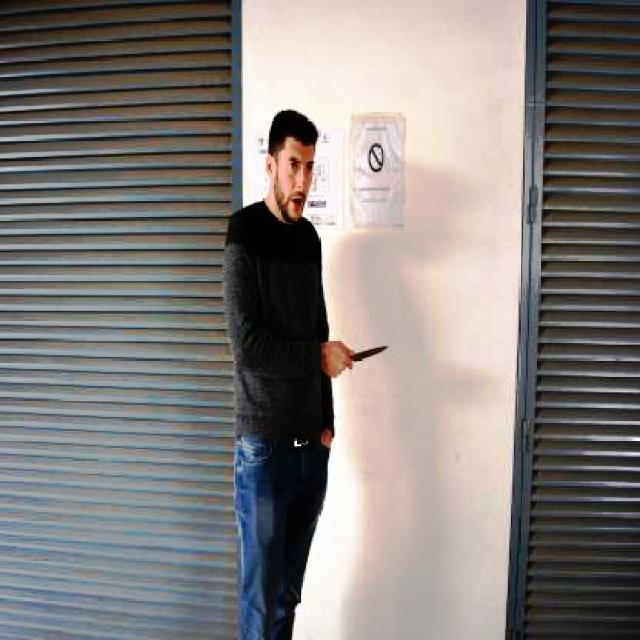Knife: (354, 333, 396, 366)
